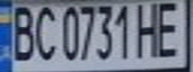0: (57, 2, 81, 62)
1: (112, 1, 136, 60)
3: (93, 1, 115, 61)
7: (78, 2, 96, 61)
B: (6, 1, 39, 62)
C: (30, 2, 60, 63)
E: (151, 0, 187, 58)
H: (133, 0, 163, 58)
